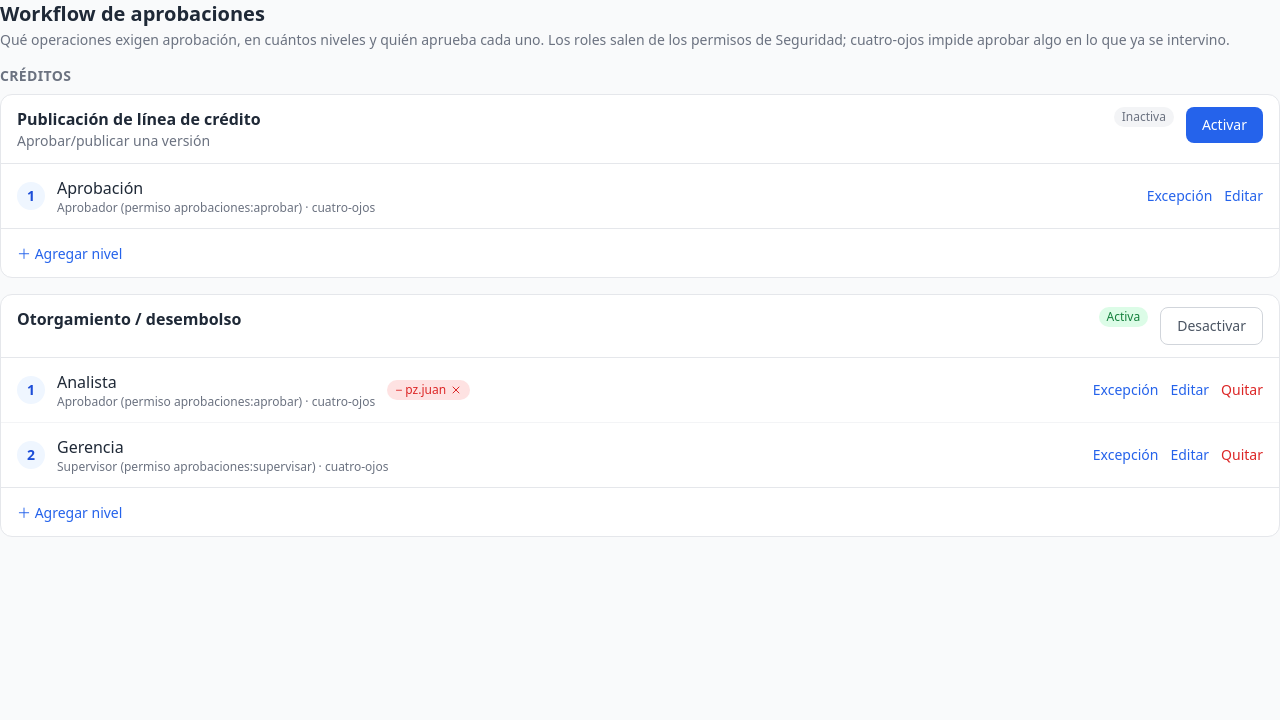
Test: Workflow de aprobaciones › edita un nivel y muestra el error de la API en el modal
Click the button "Editar" in the row of "Gerencia". click: (1190, 455)
box: top-left (1170, 445), bottom-right (1209, 465)
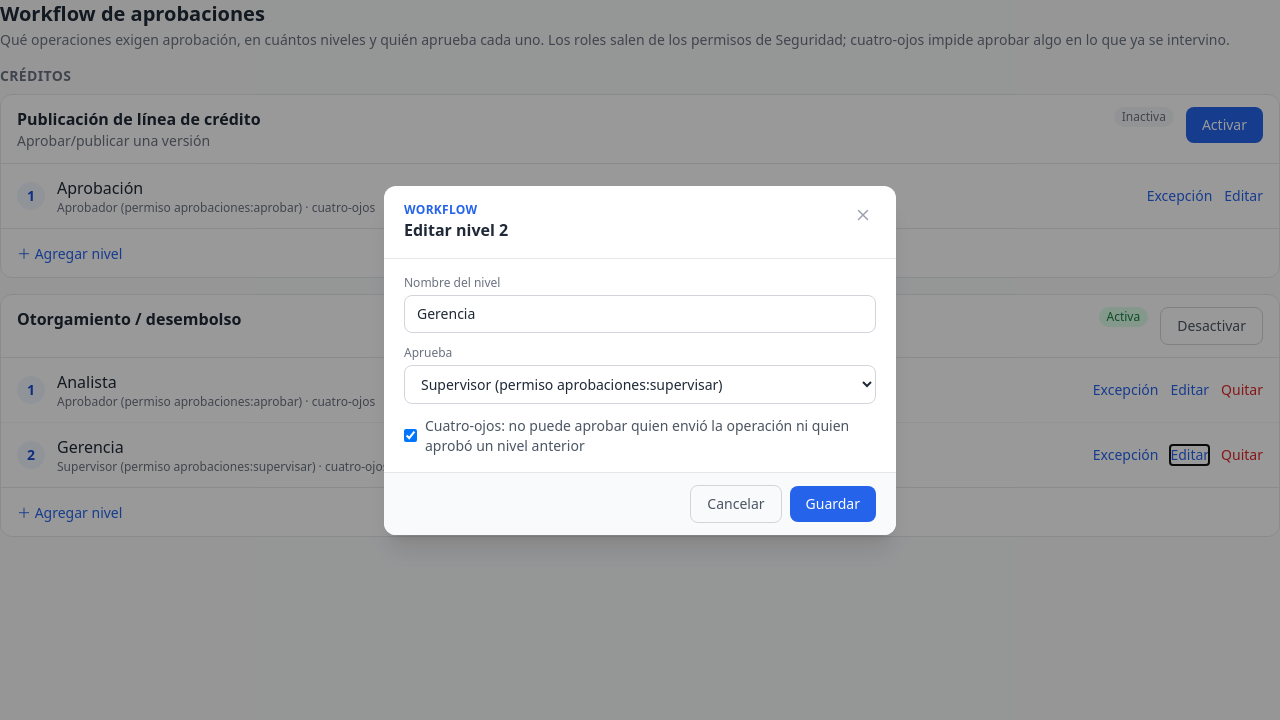
Click the checkbox labelled "Cuatro-ojos". click: (410, 436)
box: top-left (404, 429), bottom-right (417, 442)
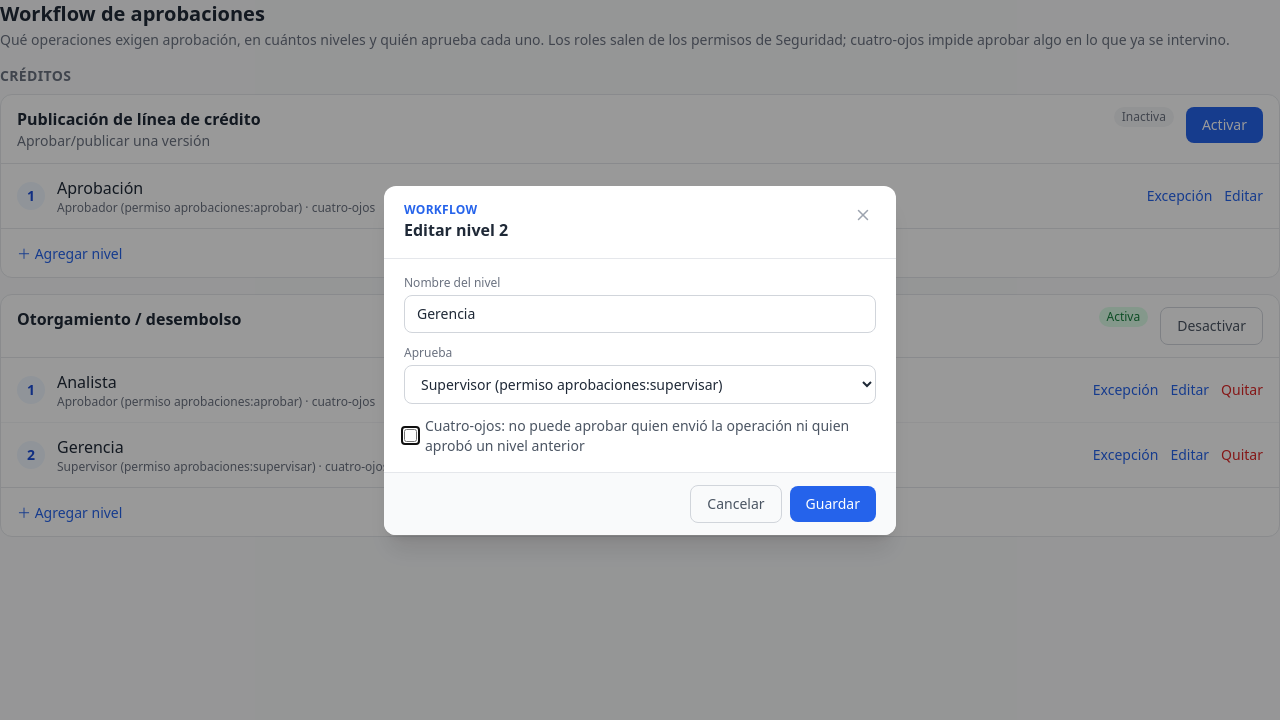
Click the button "Guardar". click: (833, 504)
box: top-left (790, 486), bottom-right (876, 522)
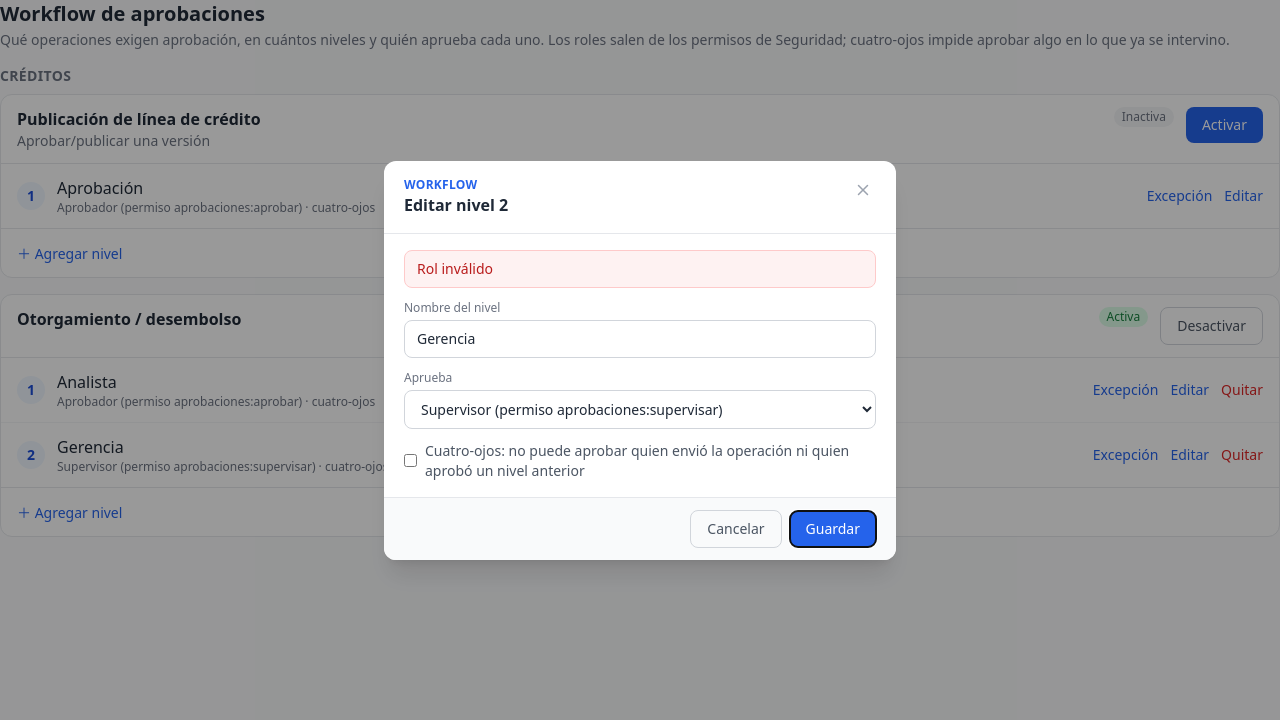
Result: the text "Rol inválido" is shown at top-left (404, 250), bottom-right (876, 288)
